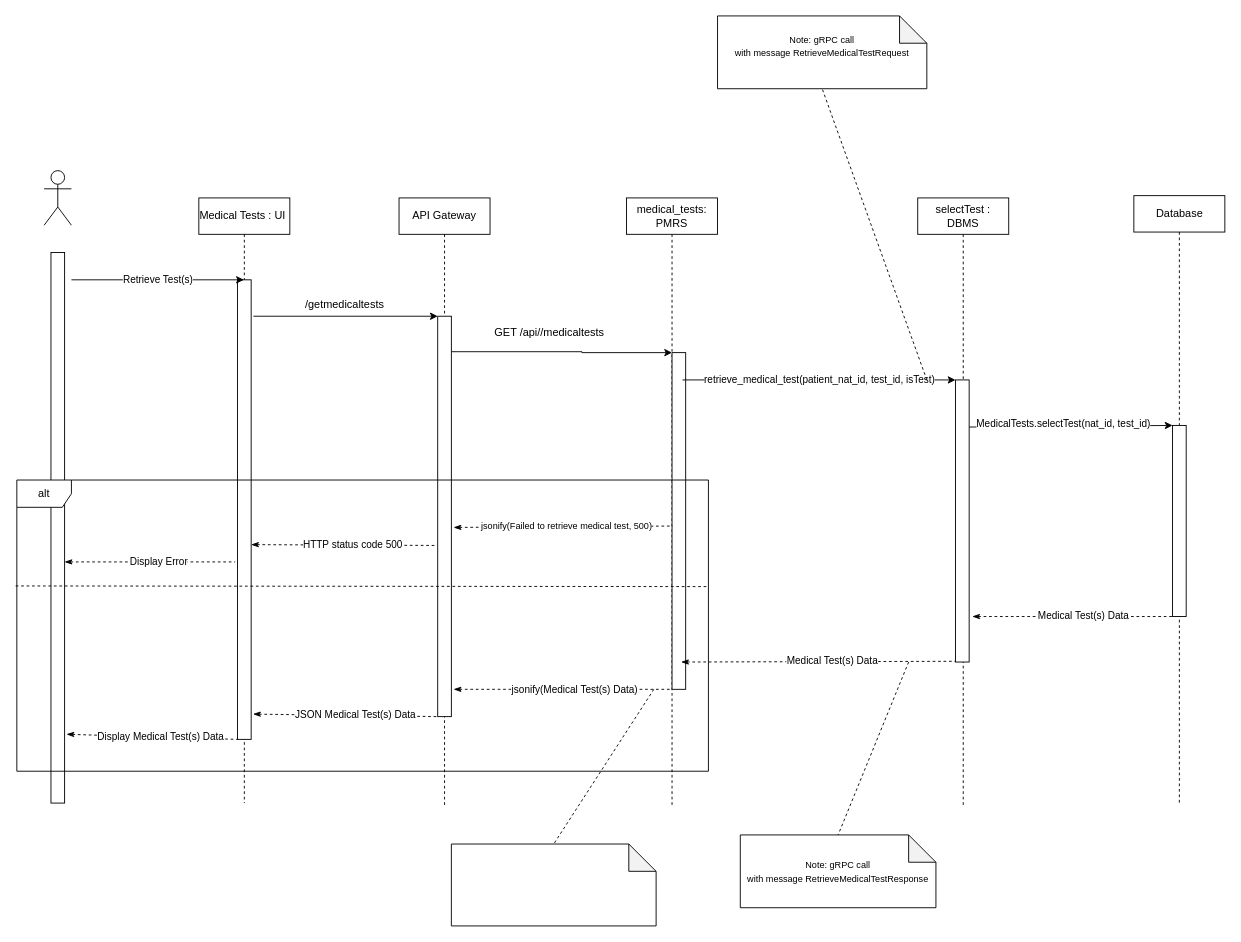
Some shapes in this 1241 by 942 pixel diagram are drawn without their labels. The box of each missing label's shape, as (x1, y1, x2, y2) in pixels:
Note: Data converted to JSON using jsonify: (450, 843, 656, 926)
Patient: (43, 170, 71, 225)
